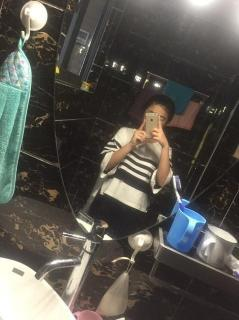long sleeve top: (99, 127, 174, 213)
